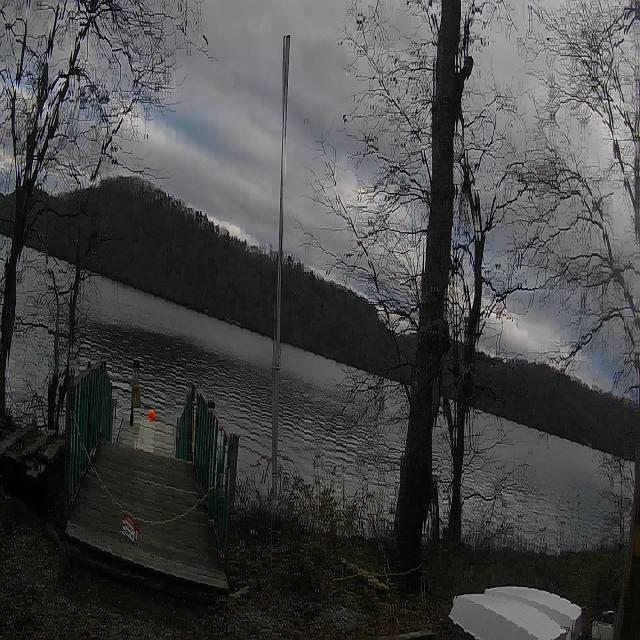Buoy: (148, 408, 156, 421)
